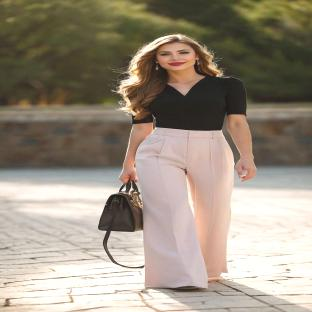Human: (119, 35, 256, 288)
